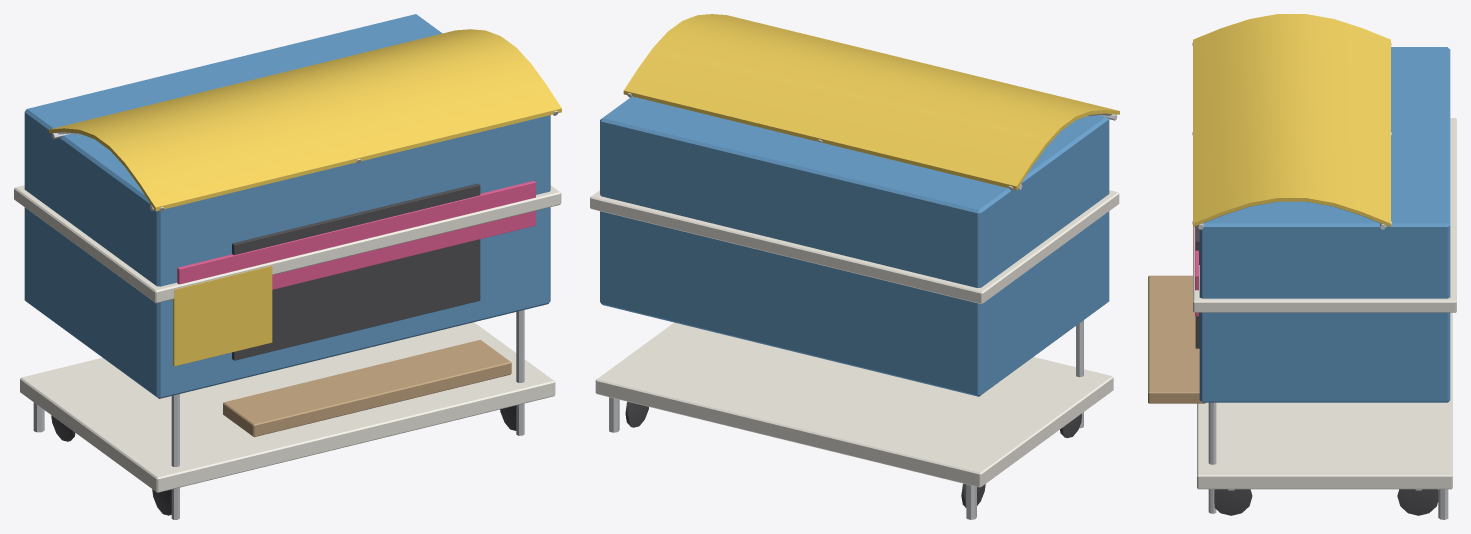
The model's file is live-music-venue-and-festival-stage-food-stall-unit-da74e65f.glb.
3 renders of one model, left to right at view 1: azimuth 30°, elevation 25°; view 2: azimuth 150°, elevation 25°; view 3: azimuth 270°, elevation 25°, orthographic. The views are drawn at different scales.
Parts seen in each view (by area): view 1: food-stall-unit; view 2: food-stall-unit; view 3: food-stall-unit.
Part boxes in pixels (x1,y1,x2,y2): food-stall-unit: (14, 14, 561, 519); food-stall-unit: (590, 14, 1119, 519); food-stall-unit: (1148, 14, 1456, 519).
Size of the model in its own units: 3.3 by 2.76 by 2.34.
